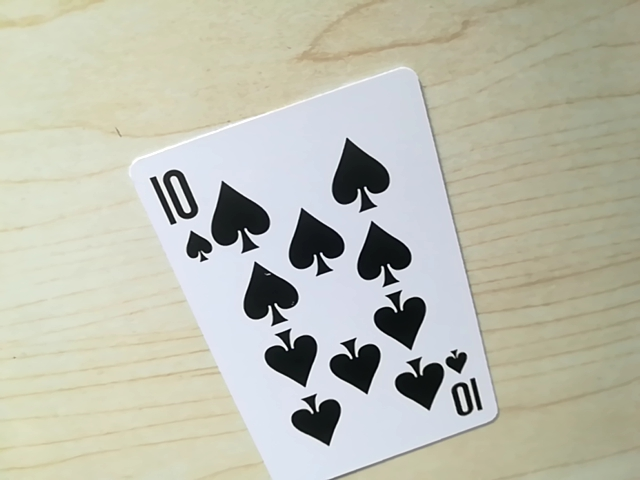ht 10: (153, 161, 211, 263), (446, 362, 486, 422)
